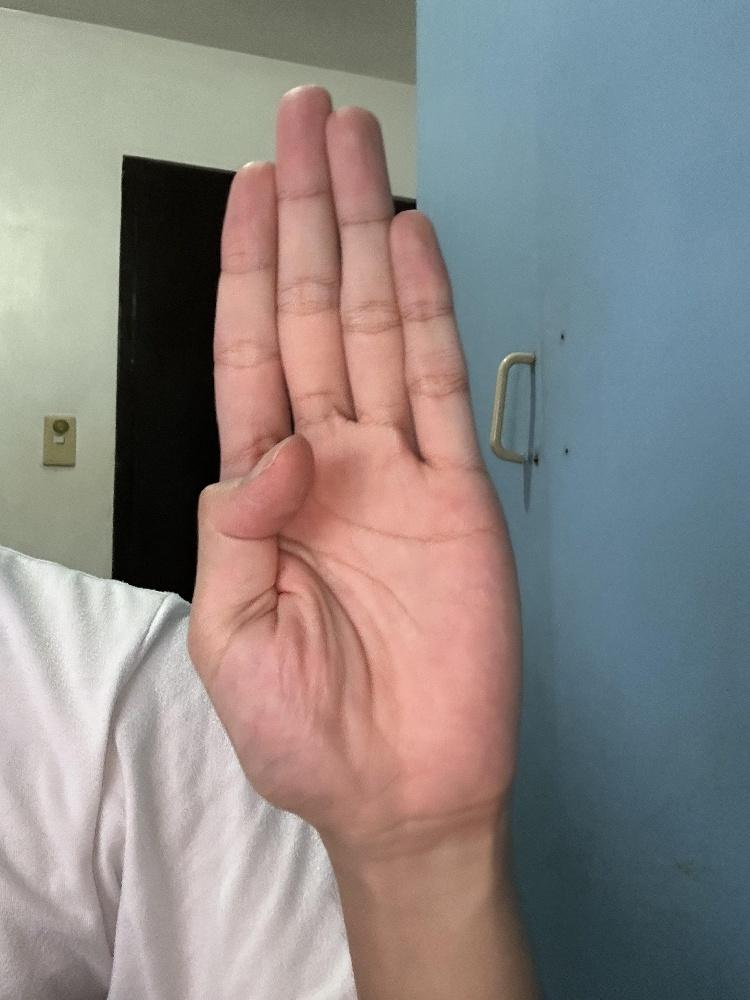b: (180, 80, 528, 836)
